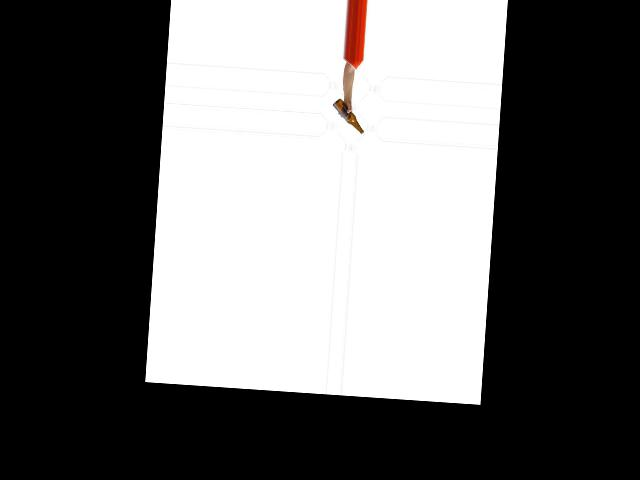beer: (330, 98, 365, 133)
